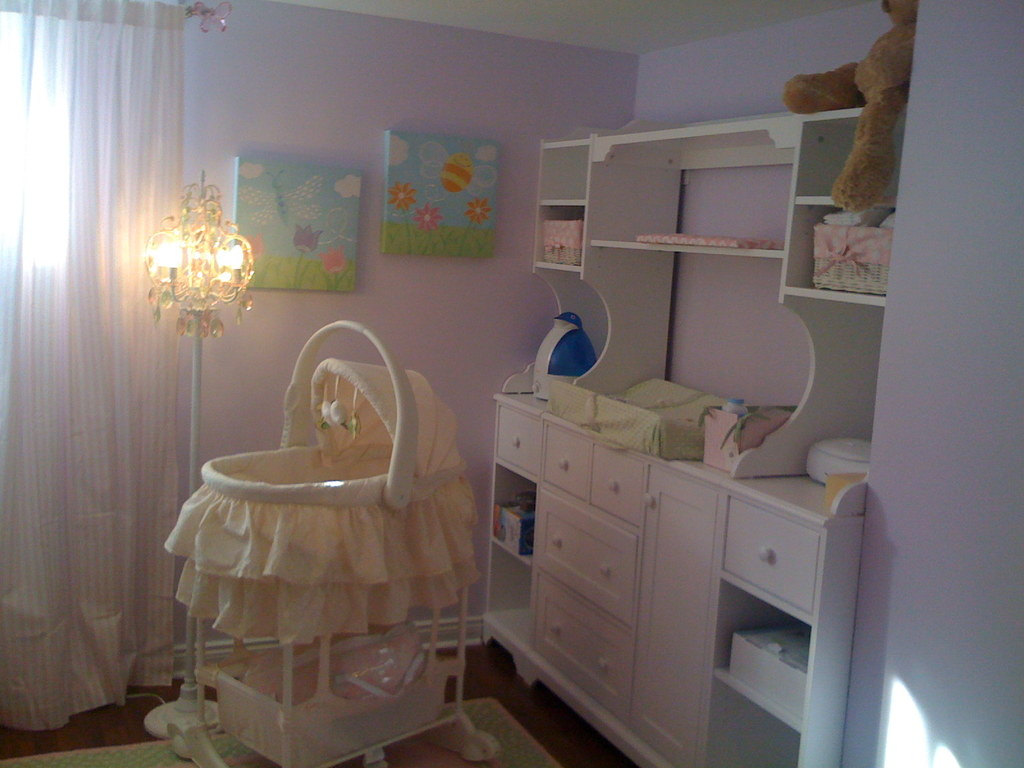cabinet door: (644, 470, 710, 742), (534, 598, 628, 681), (536, 510, 633, 587), (733, 502, 814, 591), (541, 428, 598, 495), (594, 452, 650, 511), (495, 411, 540, 465)
handle: (753, 532, 779, 573), (542, 525, 568, 554), (593, 554, 615, 586), (646, 486, 664, 517), (556, 451, 575, 479), (594, 652, 611, 681), (606, 477, 625, 502), (547, 610, 563, 638), (513, 431, 526, 453)
